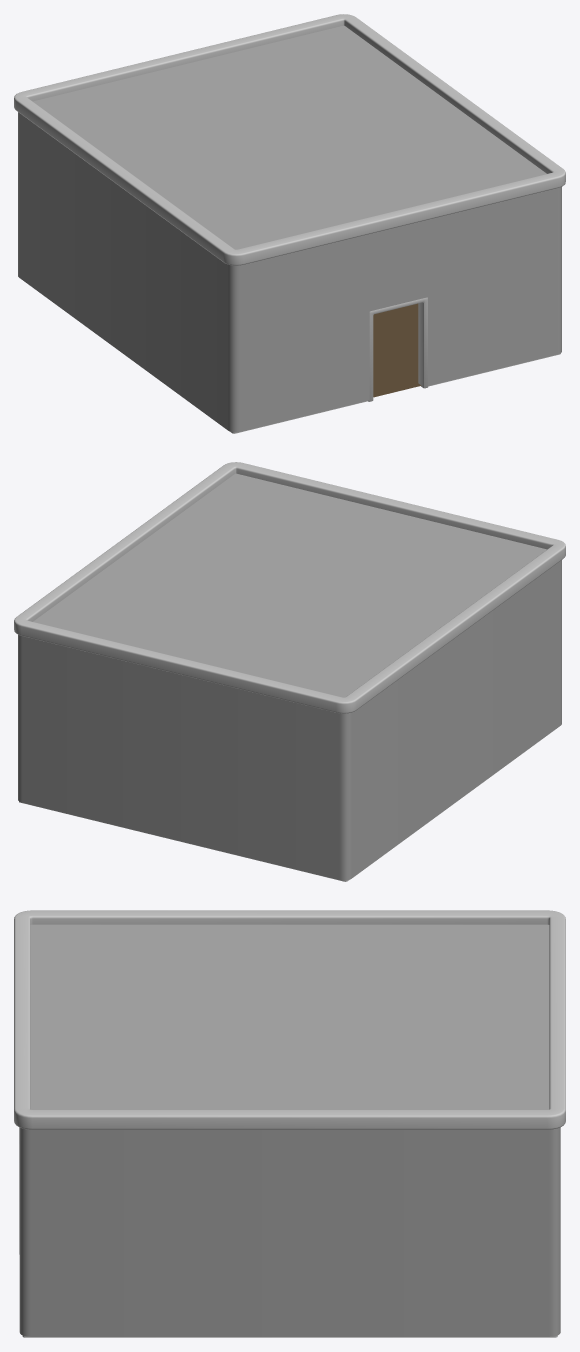
The model's file is SM_room_03.fbx.
3 renders of one model, top to bottom at view 1: azimuth 30°, elevation 25°; view 2: azimuth 150°, elevation 25°; view 3: azimuth 270°, elevation 25°, orthographic. The views are drawn at different scales.
Visible parts, largest first — view 1: Object080; view 2: Object080; view 3: Object080.
Part boxes in pixels (box(x1,y1,x2,y2)): Object080: box(14, 14, 565, 433); Object080: box(14, 462, 565, 881); Object080: box(14, 910, 565, 1337).
Bounding box in the file's own units: 330 × 168 × 373.
